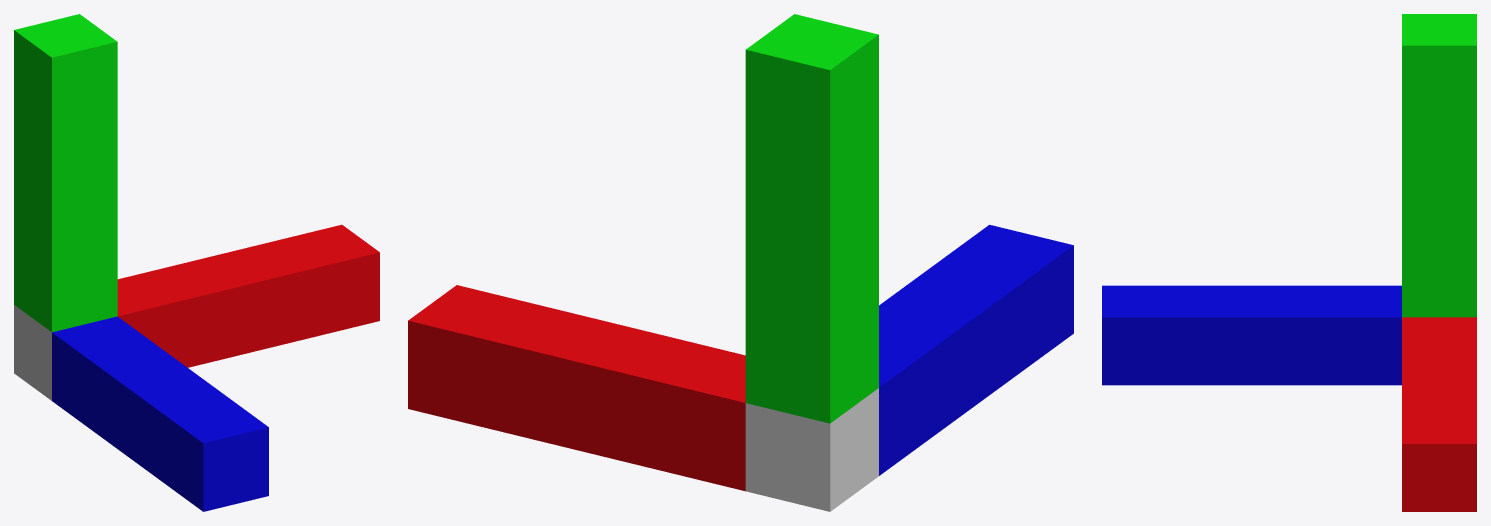
File: axis.glb
3 views of the same model, side by side, from view 1: azimuth 30°, elevation 25°; view 2: azimuth 150°, elevation 25°; view 3: azimuth 270°, elevation 25° (orthographic). The views are drawn at different scales.
Parts seen in each view (by area): view 1: y_axis, x_axis, z_axis, origin; view 2: y_axis, x_axis, z_axis, origin; view 3: z_axis, y_axis, x_axis.
Boxes of the visible parts, x1=… form: y_axis: x1=14, y1=14, x2=117, y2=332; x_axis: x1=117, y1=224, x2=379, y2=367; z_axis: x1=52, y1=316, x2=268, y2=511; origin: x1=14, y1=305, x2=51, y2=400; y_axis: x1=745, y1=14, x2=878, y2=423; x_axis: x1=408, y1=285, x2=745, y2=491; z_axis: x1=879, y1=224, x2=1073, y2=475; origin: x1=745, y1=388, x2=878, y2=511; z_axis: x1=1102, y1=285, x2=1401, y2=385; y_axis: x1=1402, y1=14, x2=1476, y2=317; x_axis: x1=1402, y1=317, x2=1476, y2=511.
Size of the model in its own units: 0.25 by 0.25 by 0.25.
